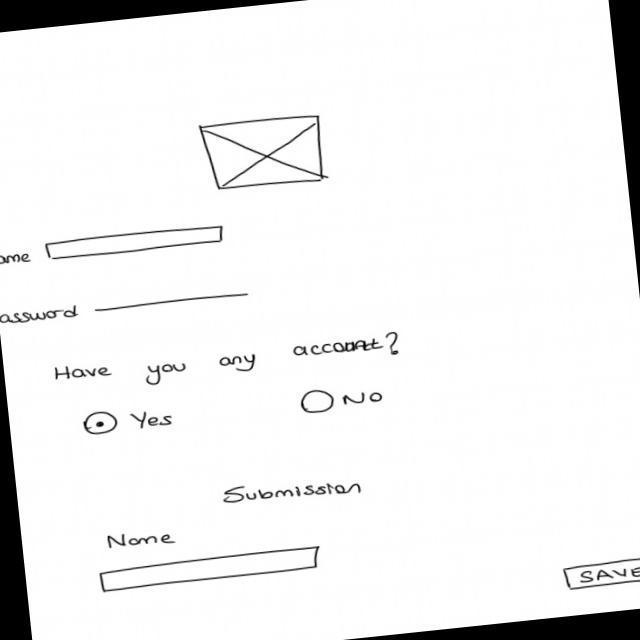button: (560, 554, 640, 593)
image: (199, 112, 329, 196)
input: (97, 545, 326, 596), (43, 222, 231, 263)
label: (51, 328, 405, 399), (218, 472, 366, 512), (1, 299, 87, 328), (105, 527, 180, 552), (1, 248, 35, 268)
radio: (83, 403, 180, 439), (298, 381, 390, 416)
